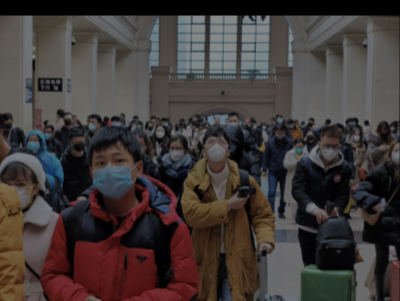with_mask: (91, 150, 137, 199), (1, 175, 35, 212), (204, 136, 229, 162), (320, 140, 339, 159), (168, 143, 185, 161), (26, 135, 42, 153), (71, 138, 86, 151), (390, 144, 399, 164), (43, 127, 54, 140), (88, 118, 99, 130), (198, 129, 207, 143), (378, 127, 390, 137), (154, 128, 165, 138), (293, 143, 303, 153), (351, 131, 361, 141), (228, 117, 239, 126), (63, 116, 73, 125), (111, 118, 121, 126), (275, 130, 285, 138), (4, 120, 13, 128), (306, 131, 314, 140), (174, 127, 181, 134), (276, 116, 283, 123), (147, 123, 154, 129), (287, 122, 294, 127)
without_mask: (214, 118, 220, 124)
